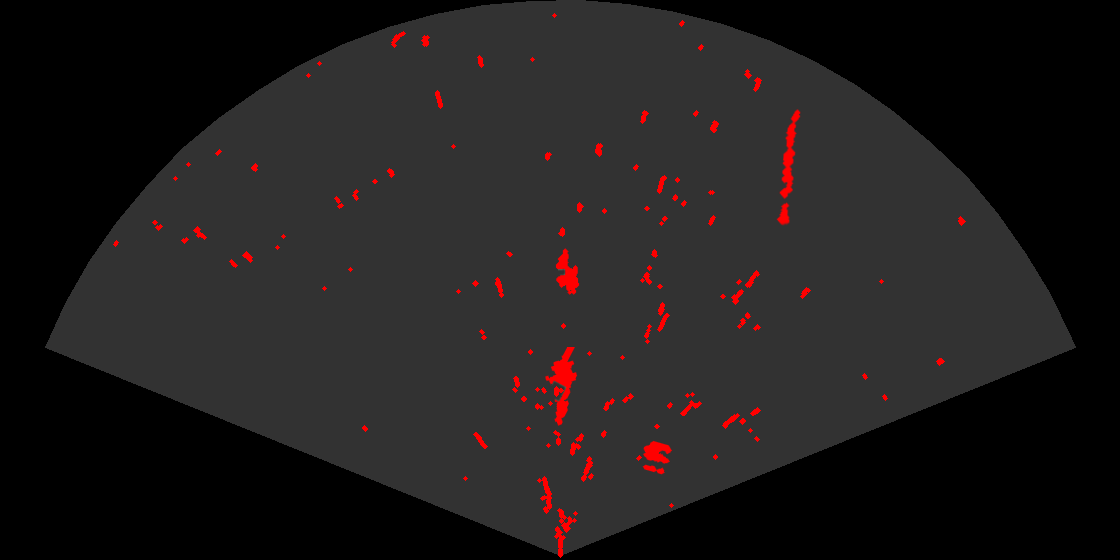AUV: (554, 247, 581, 296)
ball: (641, 439, 674, 476)
chain: (775, 108, 802, 226)
frogman: (544, 347, 579, 427)
